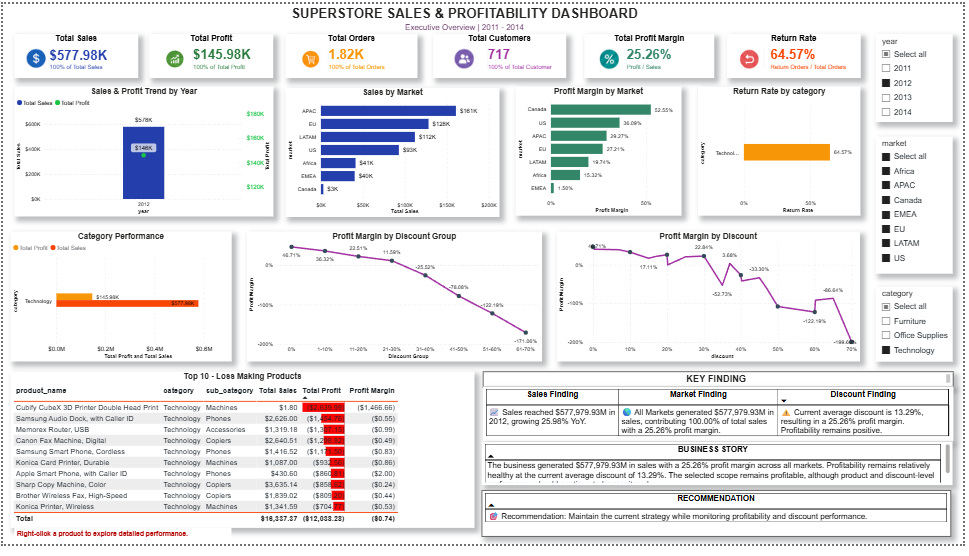

The dashboard page shown, as its layout file describes it:
{"tool":"powerbi","page":{"name":"FIX Executive Overview","canvas":[1920,1080],"ordinal":0},"visuals":[{"type":"textbox","box":[0,0,1846,40],"z":0},{"type":"textbox","box":[0,32,1846,28],"z":1000},{"type":"cardVisual","title":"Total Sales","fields":{"Data":["DimOrder.Total Sales"]},"box":[22,60,248,88],"z":2000},{"type":"cardVisual","title":"Total Profit","fields":{"Data":["DimOrder.Total Profit"]},"box":[292,60,248,88],"z":3000},{"type":"cardVisual","title":"Total Orders","fields":{"Data":["DimOrder.Total Orders"]},"box":[566,60,264,88],"z":4000},{"type":"cardVisual","title":"Total Customers","fields":{"Data":["DimOrder.Total Customers"]},"box":[860,60,266,88],"z":5000},{"type":"cardVisual","title":"Total Profit Margin","fields":{"Data":["DimOrder.Profit Margin"]},"box":[1162,60,260,88],"z":6000},{"type":"cardVisual","title":"Return Rate","fields":{"Data":["DimOrder.Return Rate"]},"box":[1448,60,268,88],"z":7000},{"type":"lineClusteredColumnComboChart","title":"Sales & Profit Trend by Year","fields":{"Category":["public orders.year"],"Y":["DimOrder.Total Sales"],"Y2":["DimOrder.Total Profit"]},"box":[22,166,518,260],"z":8000},{"type":"clusteredBarChart","title":"Sales by Market","fields":{"Y":["DimOrder.Total Sales"],"Category":["public orders.market"]},"box":[566,168,428,258],"z":9000},{"type":"clusteredBarChart","title":"Profit Margin by Market","fields":{"Y":["DimOrder.Profit Margin"],"Category":["public orders.market"]},"box":[1024,166,331.7,258.3],"z":10000},{"type":"clusteredBarChart","title":"Category Performance","fields":{"Y":["DimOrder.Total Profit","DimOrder.Total Sales"],"Category":["public orders.category"]},"box":[14,454,442,260],"z":11000},{"type":"lineChart","title":"Profit Margin by Discount","fields":{"Y":["DimOrder.Profit Margin"],"Category":["public orders.discount"]},"box":[1108,454,606,260],"z":12000},{"type":"clusteredBarChart","fields":{"Y":["DimOrder.Return Rate"],"Category":["public orders.category"]},"box":[1390,166,325,258.3],"z":13000},{"type":"tableEx","title":"Top 10 - Loss Making Products","fields":{"Values":["public orders.product_name","public orders.category","public orders.sub_category","DimOrder.Total Sales","DimOrder.Total Profit","DimOrder.Profit Margin"]},"box":[14.4,734.8,928.3,312.9],"z":14000},{"type":"lineChart","title":"Profit Margin by Discount Group","fields":{"Y":["DimOrder.Profit Margin"],"Category":["public orders.Discount Group"]},"box":[488,454,590,260],"z":15000},{"type":"slicer","fields":{"Values":["public orders.year"]},"box":[1744,60,154,176],"z":16000},{"type":"slicer","fields":{"Values":["public orders.market"]},"box":[1746,266,154,274],"z":17000},{"type":"slicer","fields":{"Values":["public orders.category"]},"box":[1744,564,154,150],"z":18000},{"type":"textbox","box":[22,1048,434,32],"z":19000},{"type":"textbox","box":[959.2,734.8,940.7,30.9],"z":20000},{"type":"tableEx","fields":{"Values":["DimOrder.Dynamic Sales Finding","DimOrder.Dynamic Market Finding","DimOrder.Dynamic Discount Finding"]},"box":[959.2,765.7,940.7,109.1],"z":21000},{"type":"tableEx","fields":{"Values":["DimOrder.Business Story"]},"box":[958.6,874.3,941.4,87.1],"z":22000},{"type":"tableEx","fields":{"Values":["DimOrder.Recommendation"]},"box":[958.6,971.4,938.6,92.9],"z":23000}]}

Visuals, with their boxes in screenshot pixels (x1, y1, x2, y2), scaled from the page's 1920x1080 canvas onto the 969x556 screenshot:
textbox: x1=0 y1=0 x2=932 y2=21
textbox: x1=0 y1=16 x2=932 y2=31
"Total Sales" cardVisual: x1=11 y1=31 x2=136 y2=76
"Total Profit" cardVisual: x1=147 y1=31 x2=273 y2=76
"Total Orders" cardVisual: x1=286 y1=31 x2=419 y2=76
"Total Customers" cardVisual: x1=434 y1=31 x2=568 y2=76
"Total Profit Margin" cardVisual: x1=586 y1=31 x2=718 y2=76
"Return Rate" cardVisual: x1=731 y1=31 x2=866 y2=76
"Sales & Profit Trend by Year" lineClusteredColumnComboChart: x1=11 y1=85 x2=273 y2=219
"Sales by Market" clusteredBarChart: x1=286 y1=86 x2=502 y2=219
"Profit Margin by Market" clusteredBarChart: x1=517 y1=85 x2=684 y2=218
"Category Performance" clusteredBarChart: x1=7 y1=234 x2=230 y2=368
"Profit Margin by Discount" lineChart: x1=559 y1=234 x2=865 y2=368
clusteredBarChart - DimOrder.Return Rate x public orders.category: x1=702 y1=85 x2=866 y2=218
"Top 10 - Loss Making Products" tableEx: x1=7 y1=378 x2=476 y2=539
"Profit Margin by Discount Group" lineChart: x1=246 y1=234 x2=544 y2=368
slicer - public orders.year: x1=880 y1=31 x2=958 y2=121
slicer - public orders.market: x1=881 y1=137 x2=959 y2=278
slicer - public orders.category: x1=880 y1=290 x2=958 y2=368
textbox: x1=11 y1=540 x2=230 y2=555
textbox: x1=484 y1=378 x2=959 y2=394
tableEx - DimOrder.Dynamic Sales Finding x DimOrder.Dynamic Market Finding: x1=484 y1=394 x2=959 y2=450
tableEx - DimOrder.Business Story: x1=484 y1=450 x2=959 y2=495
tableEx - DimOrder.Recommendation: x1=484 y1=500 x2=957 y2=548
